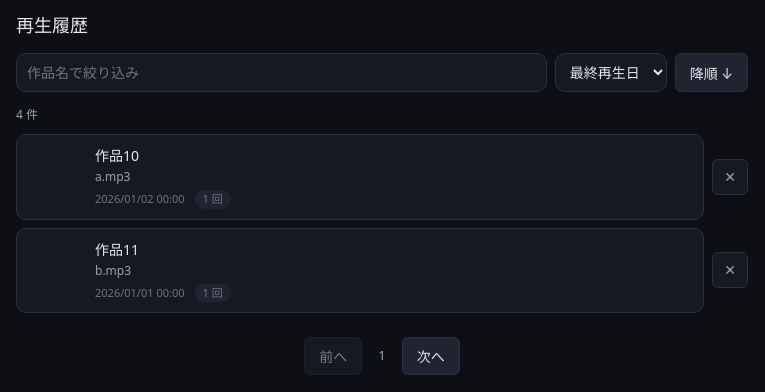
Scenario: HistoryPage 総件数と次へページングの整合性 › total が limit×page ちょうどのとき「次へ」が disabled になる(空ページ遷移防止)
This screenshot has width=765, height=392.
Expected: the text "作品10" is shown, [95, 146, 139, 165]
Click the button "次へ".
click(431, 356)  # box [402, 337, 460, 375]
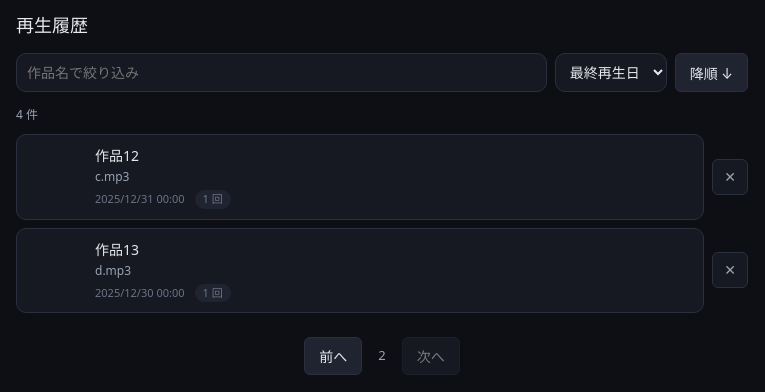
Now the text "作品12" is shown, box [95, 146, 139, 165]
Now the button "次へ" is disabled, box [402, 337, 460, 375]
